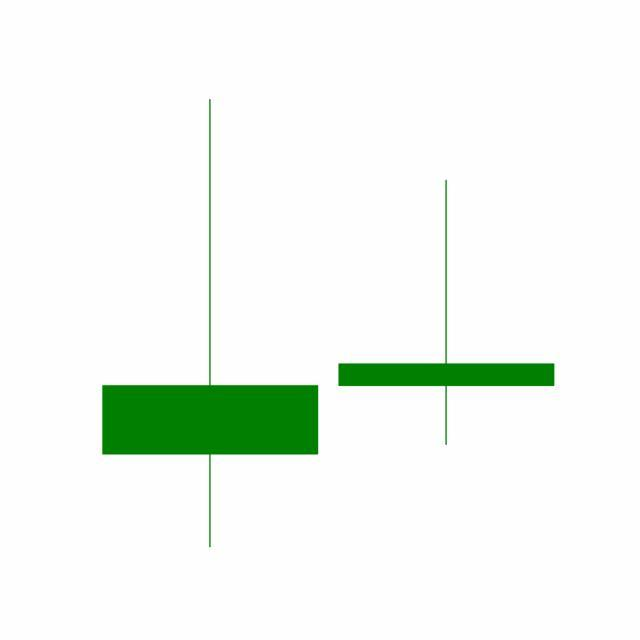Spinning Top: (328, 178, 566, 449)
